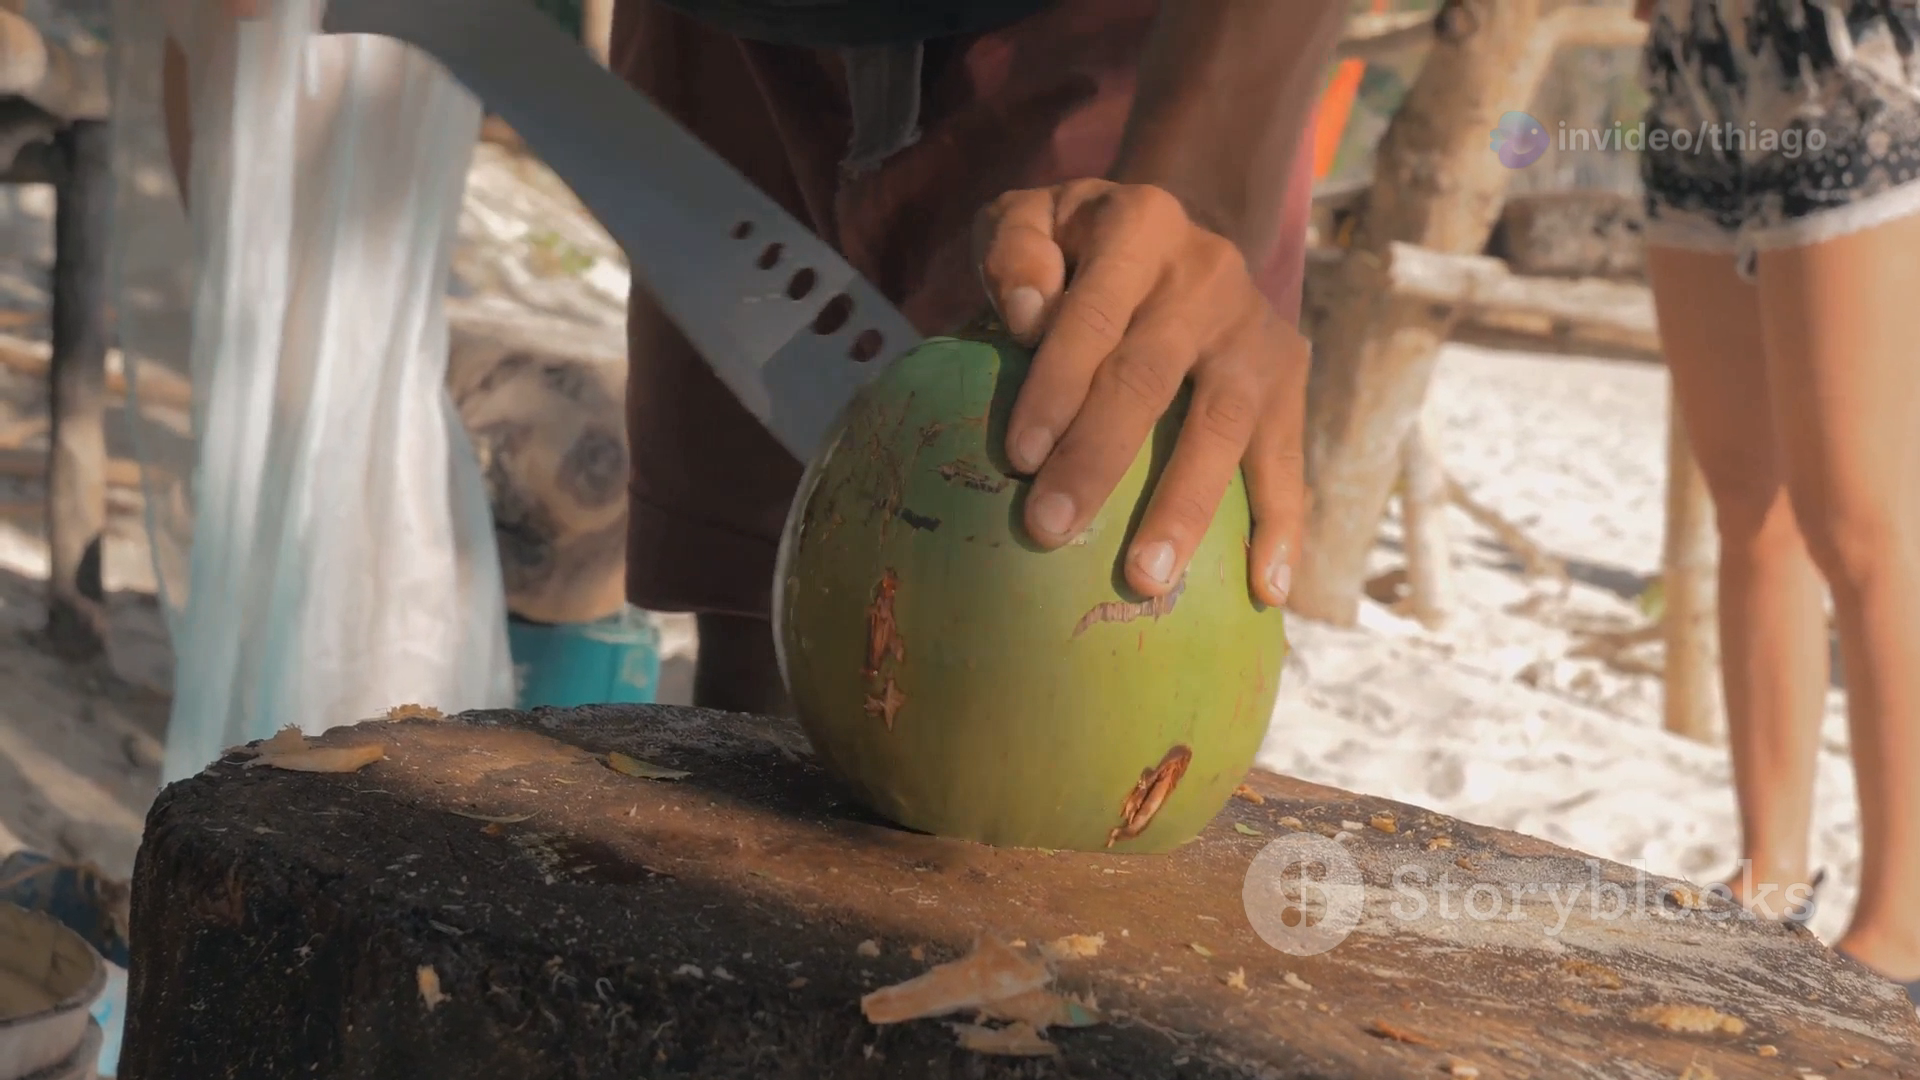cortante: (320, 0, 922, 469)
